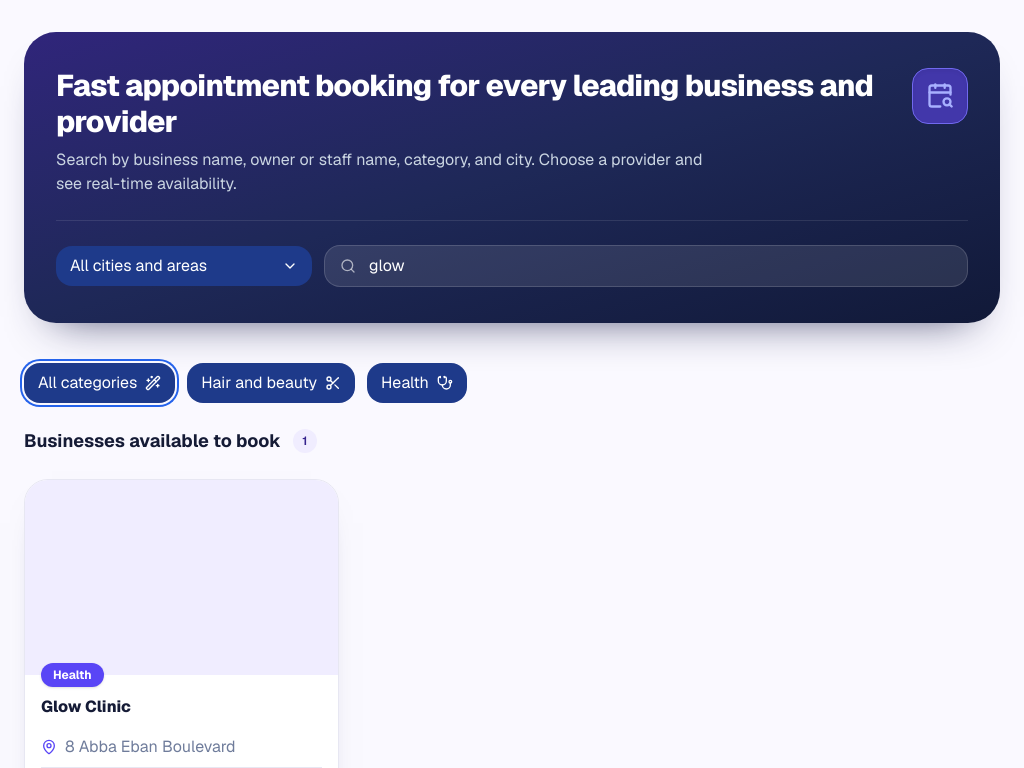
it: discovery search › seeds the box from /search?q= and clears back to everything
Expected: the text "Studio Zohar" is not shown
Clear the search field at {"x": 646, "y": 266}, box [324,245,968,287]
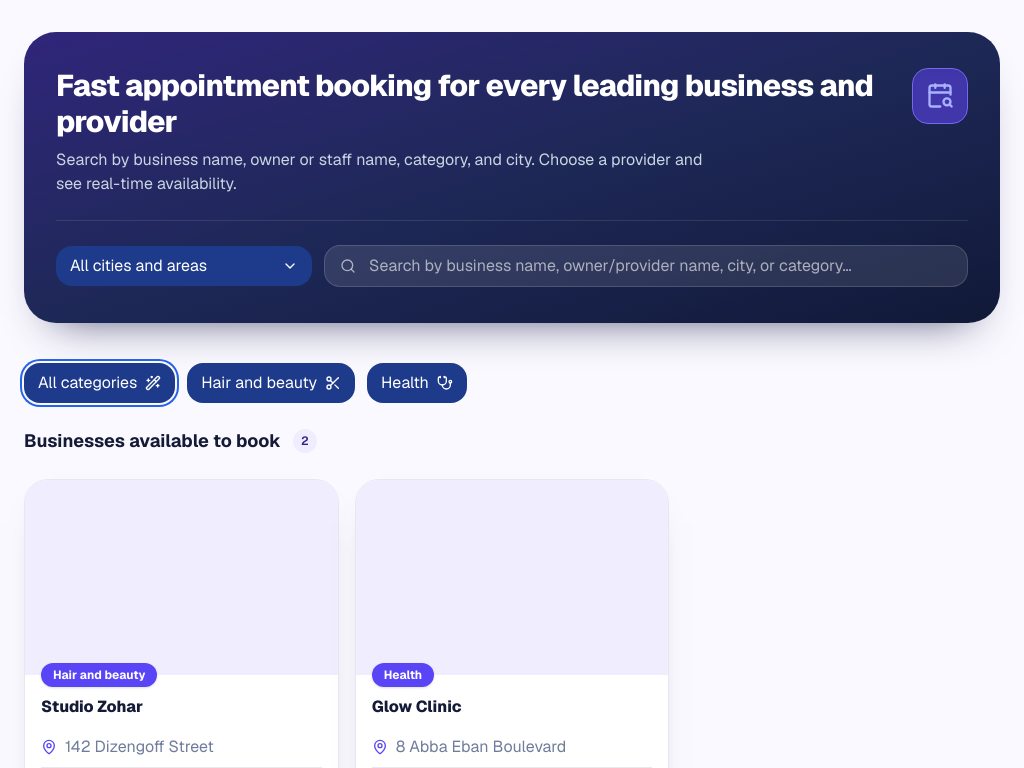
Result: the heading "Studio Zohar" is shown at [41,696,143,717]
